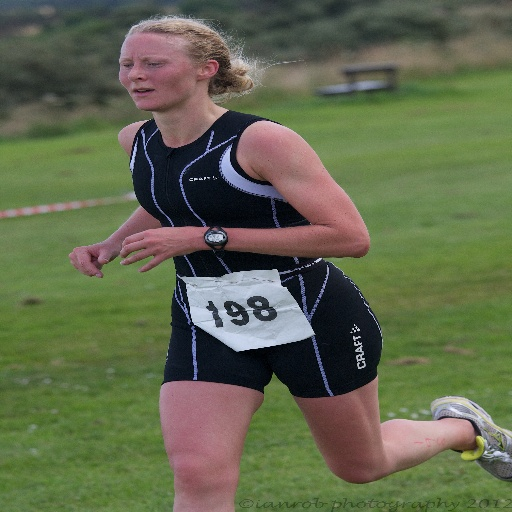hand: (92, 210, 221, 273), (65, 241, 120, 279)
